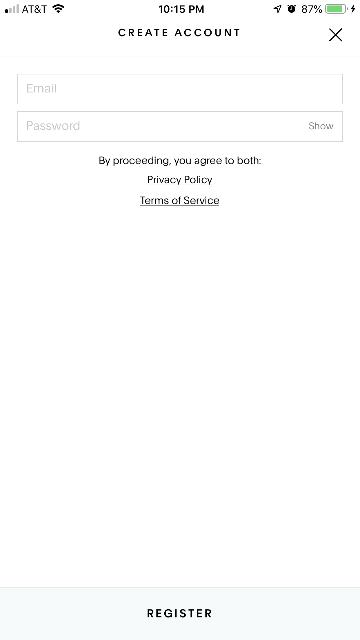EditText: (17, 112, 342, 142), (17, 74, 342, 104)
Icon: (328, 28, 342, 40)
Text: (100, 156, 260, 166), (118, 29, 240, 36), (140, 196, 219, 206), (148, 175, 212, 185), (148, 609, 210, 617), (27, 122, 79, 130), (27, 84, 55, 92), (309, 122, 333, 130)
TextButton: (0, 587, 360, 639)
UpperTaskBar: (0, 0, 360, 14)
